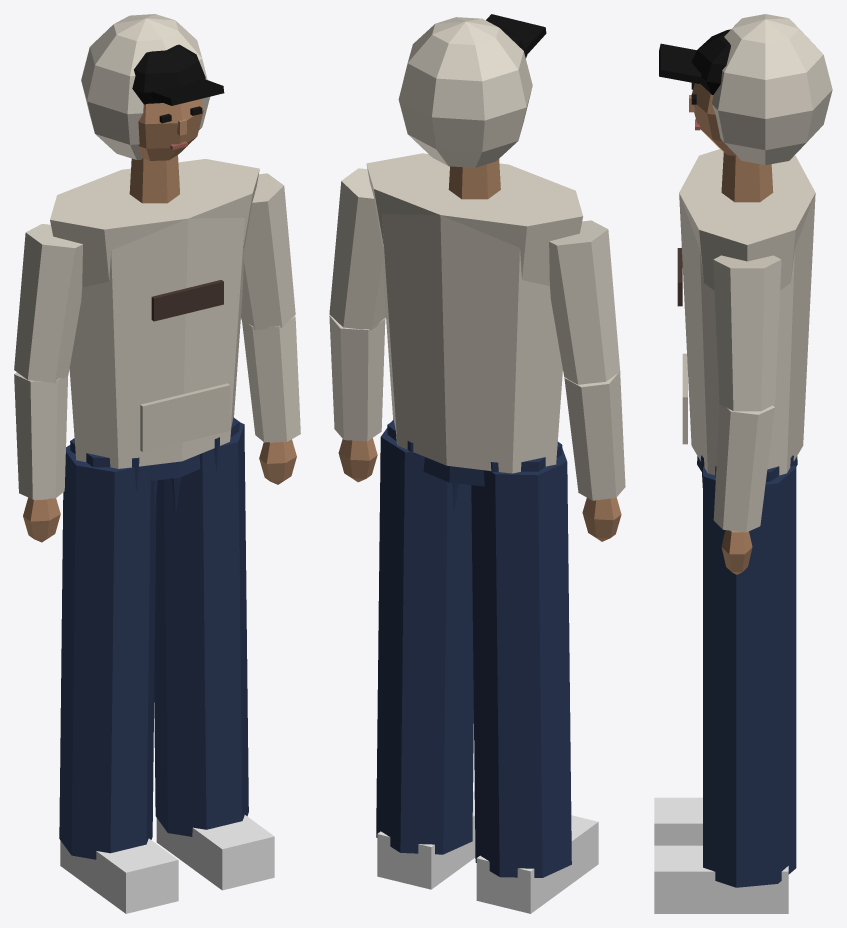
The model's file is 04-hoodie-guy.glb.
The picture shows the model from 3 angles, left to right: view 1: azimuth 30°, elevation 25°; view 2: azimuth 150°, elevation 25°; view 3: azimuth 270°, elevation 25°; orthographic projection. The views are drawn at different scales.
Parts seen in each view (by area): view 1: 04-hoodie-guy-hoodie, 04-hoodie-guy-baggy, 04-hoodie-guy-baggy.001, 04-hoodie-guy-upperarm, 04-hoodie-guy-hood, 04-hoodie-guy-upperarm.001, 04-hoodie-guy-forearm, 04-hoodie-guy-forearm.001, 04-hoodie-guy-sneaker, 04-hoodie-guy-torso, 04-hoodie-guy-pocket, 04-hoodie-guy-sneaker.001 (+10 smaller); view 2: 04-hoodie-guy-hoodie, 04-hoodie-guy-baggy, 04-hoodie-guy-baggy.001, 04-hoodie-guy-hood, 04-hoodie-guy-upperarm, 04-hoodie-guy-upperarm.001, 04-hoodie-guy-forearm, 04-hoodie-guy-forearm.001, 04-hoodie-guy-torso, 04-hoodie-guy-sneaker, 04-hoodie-guy-foot.001, 04-hoodie-guy-sneaker.001 (+6 smaller); view 3: 04-hoodie-guy-baggy.001, 04-hoodie-guy-hoodie, 04-hoodie-guy-hood, 04-hoodie-guy-upperarm.001, 04-hoodie-guy-forearm.001, 04-hoodie-guy-sneaker.001, 04-hoodie-guy-torso, 04-hoodie-guy-sneaker, 04-hoodie-guy-neck, 04-hoodie-guy-cap, 04-hoodie-guy-capbrim, 04-hoodie-guy-head (+2 smaller).
Boxes of the visible parts, <box> form: 04-hoodie-guy-hoodie: <box>58,160,250,468</box>; 04-hoodie-guy-baggy: <box>59,445,156,859</box>; 04-hoodie-guy-baggy.001: <box>154,422,248,836</box>; 04-hoodie-guy-upperarm: <box>14,224,82,382</box>; 04-hoodie-guy-hood: <box>81,14,209,159</box>; 04-hoodie-guy-upperarm.001: <box>241,173,295,330</box>; 04-hoodie-guy-forearm: <box>14,372,67,499</box>; 04-hoodie-guy-forearm.001: <box>242,316,300,442</box>; 04-hoodie-guy-sneaker: <box>60,838,178,913</box>; 04-hoodie-guy-torso: <box>50,159,259,287</box>; 04-hoodie-guy-pocket: <box>140,383,230,451</box>; 04-hoodie-guy-sneaker.001: <box>156,815,274,890</box>; 04-hoodie-guy-hoodie: <box>375,155,573,473</box>; 04-hoodie-guy-baggy: <box>471,448,571,877</box>; 04-hoodie-guy-baggy.001: <box>376,420,473,854</box>; 04-hoodie-guy-hood: <box>398,17,532,167</box>; 04-hoodie-guy-upperarm: <box>549,220,620,384</box>; 04-hoodie-guy-upperarm.001: <box>329,168,385,330</box>; 04-hoodie-guy-forearm: <box>564,371,625,500</box>; 04-hoodie-guy-forearm.001: <box>329,315,385,441</box>; 04-hoodie-guy-torso: <box>366,153,583,286</box>; 04-hoodie-guy-sneaker: <box>476,815,598,913</box>; 04-hoodie-guy-foot.001: <box>386,820,475,889</box>; 04-hoodie-guy-sneaker.001: <box>377,791,475,889</box>; 04-hoodie-guy-baggy.001: <box>703,465,796,887</box>; 04-hoodie-guy-hoodie: <box>679,151,815,475</box>; 04-hoodie-guy-hood: <box>712,14,832,165</box>; 04-hoodie-guy-upperarm.001: <box>713,255,781,411</box>; 04-hoodie-guy-forearm.001: <box>713,404,774,532</box>; 04-hoodie-guy-sneaker.001: <box>654,845,788,913</box>; 04-hoodie-guy-torso: <box>679,149,815,290</box>; 04-hoodie-guy-sneaker: <box>654,797,702,845</box>; 04-hoodie-guy-neck: <box>721,152,773,202</box>; 04-hoodie-guy-cap: <box>691,29,730,94</box>; 04-hoodie-guy-capbrim: <box>659,43,701,83</box>; 04-hoodie-guy-head: <box>691,83,736,156</box>.
Bounding box in the file's own units: 0.6239 × 1.83 × 0.345.
